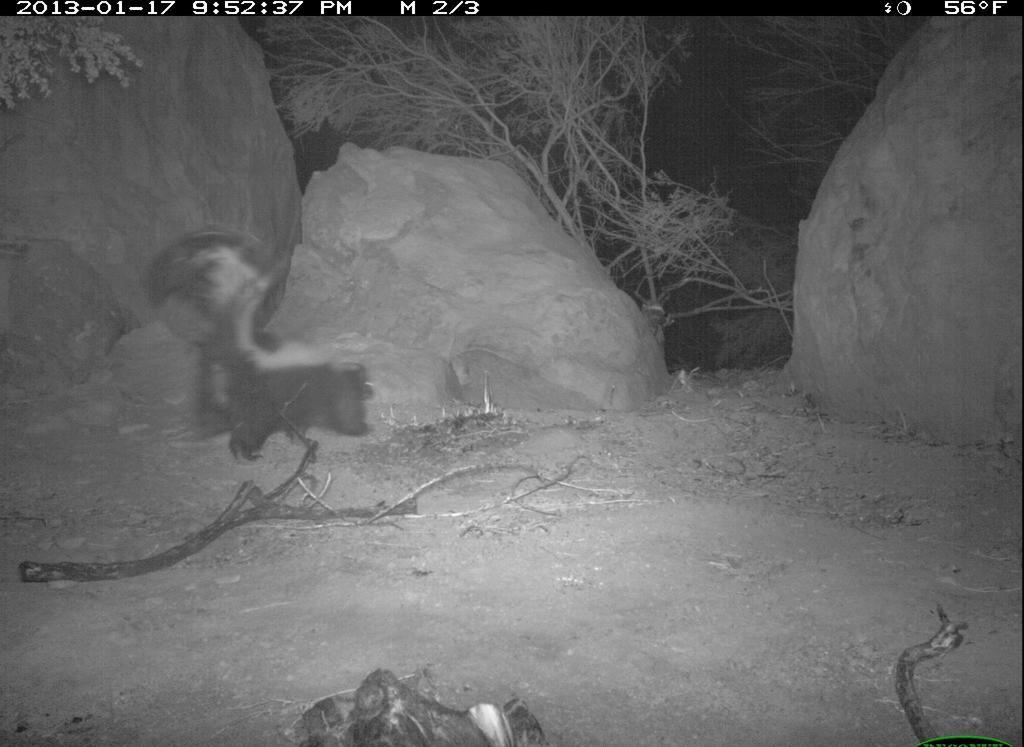skunk: (125, 205, 383, 465)
